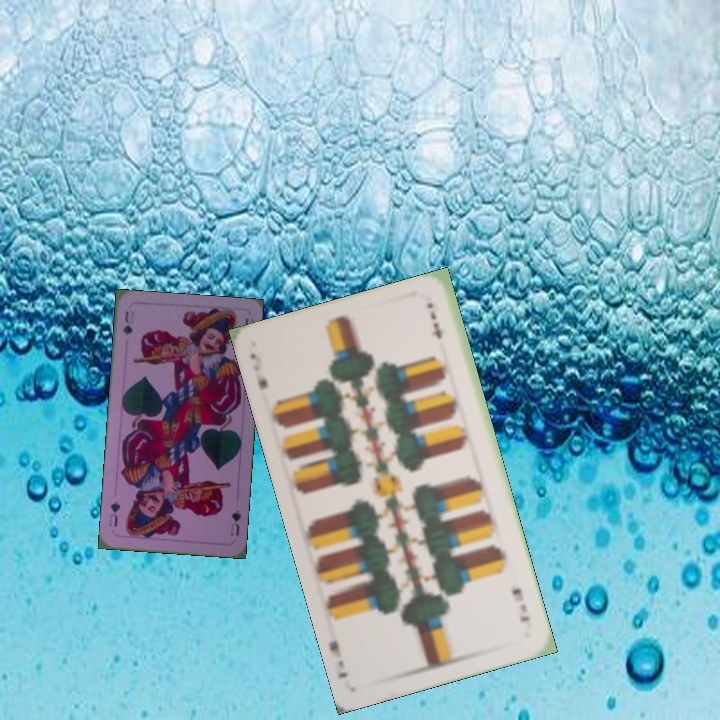E7: (507, 584, 533, 626), (246, 348, 270, 392)
GU: (119, 307, 137, 339), (226, 506, 243, 538)
